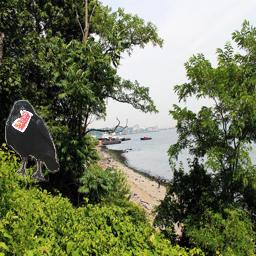Crow: (5, 100, 60, 182)
